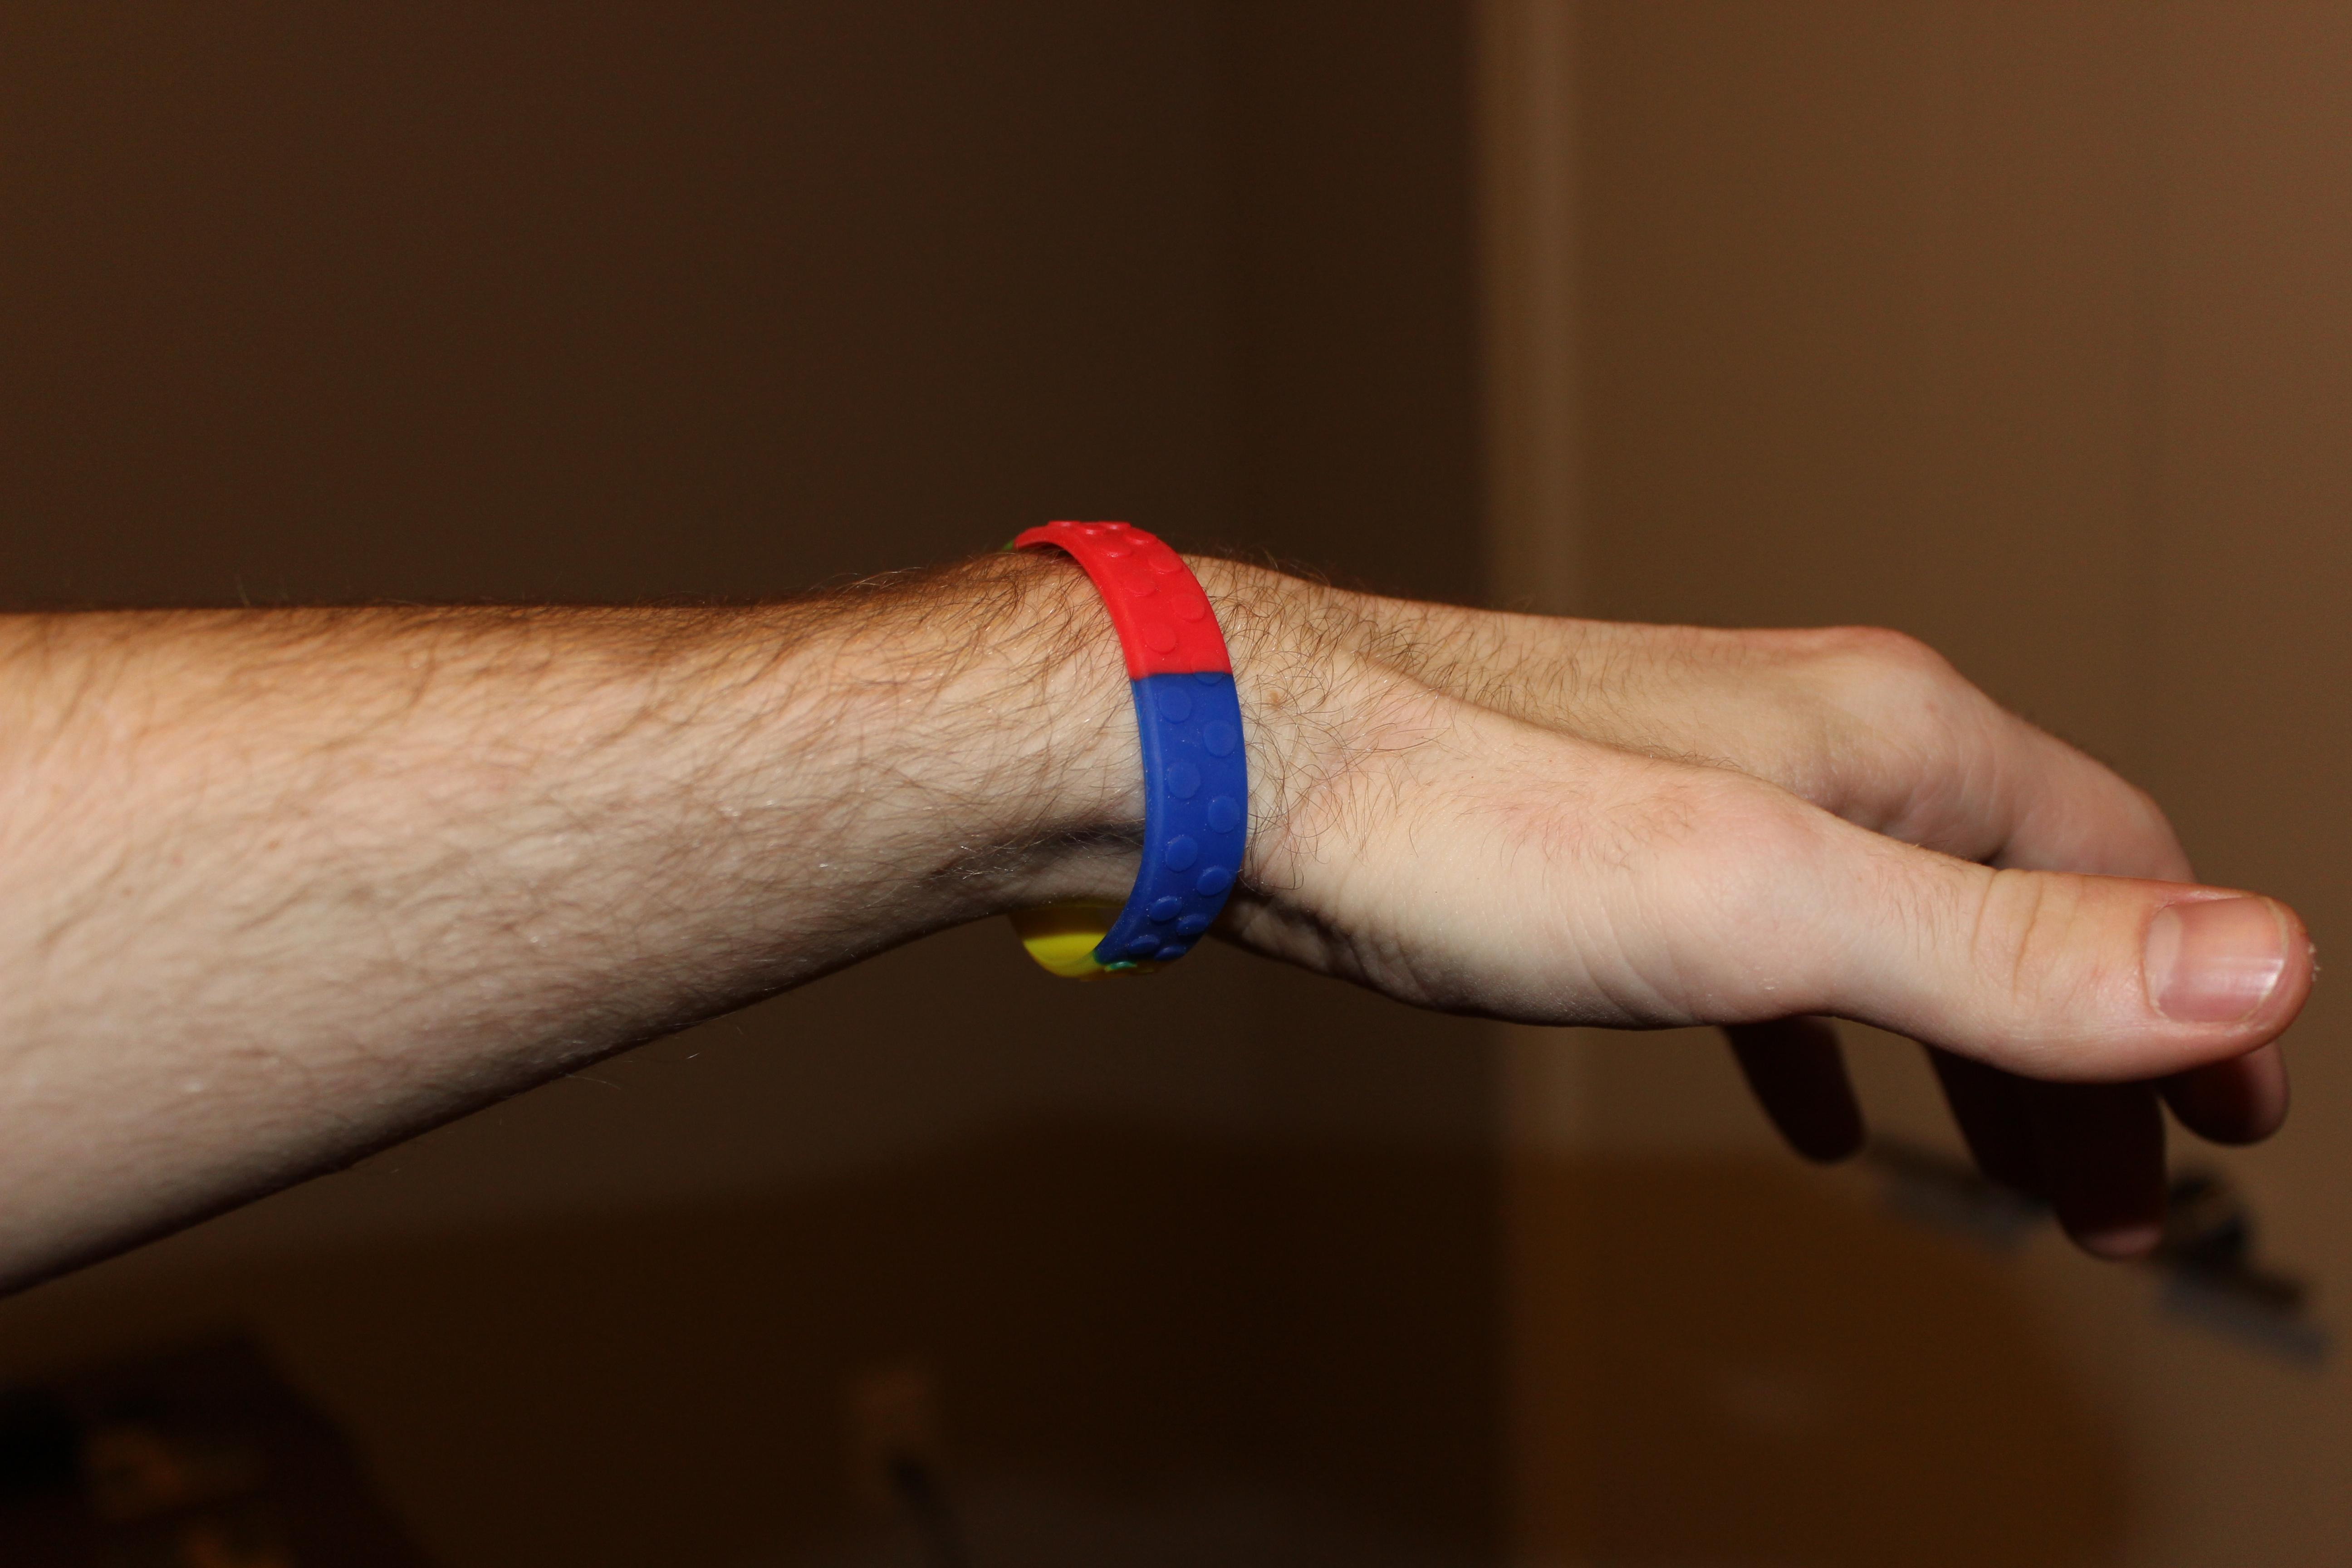legoBracelet: (945, 483, 1281, 1017)
